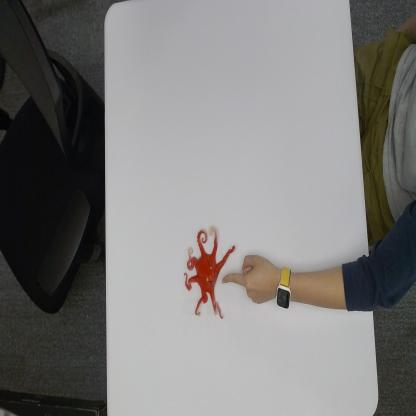Arm: (296, 246, 379, 318)
Hand: (220, 252, 276, 306)
Octopus: (183, 222, 236, 321)
